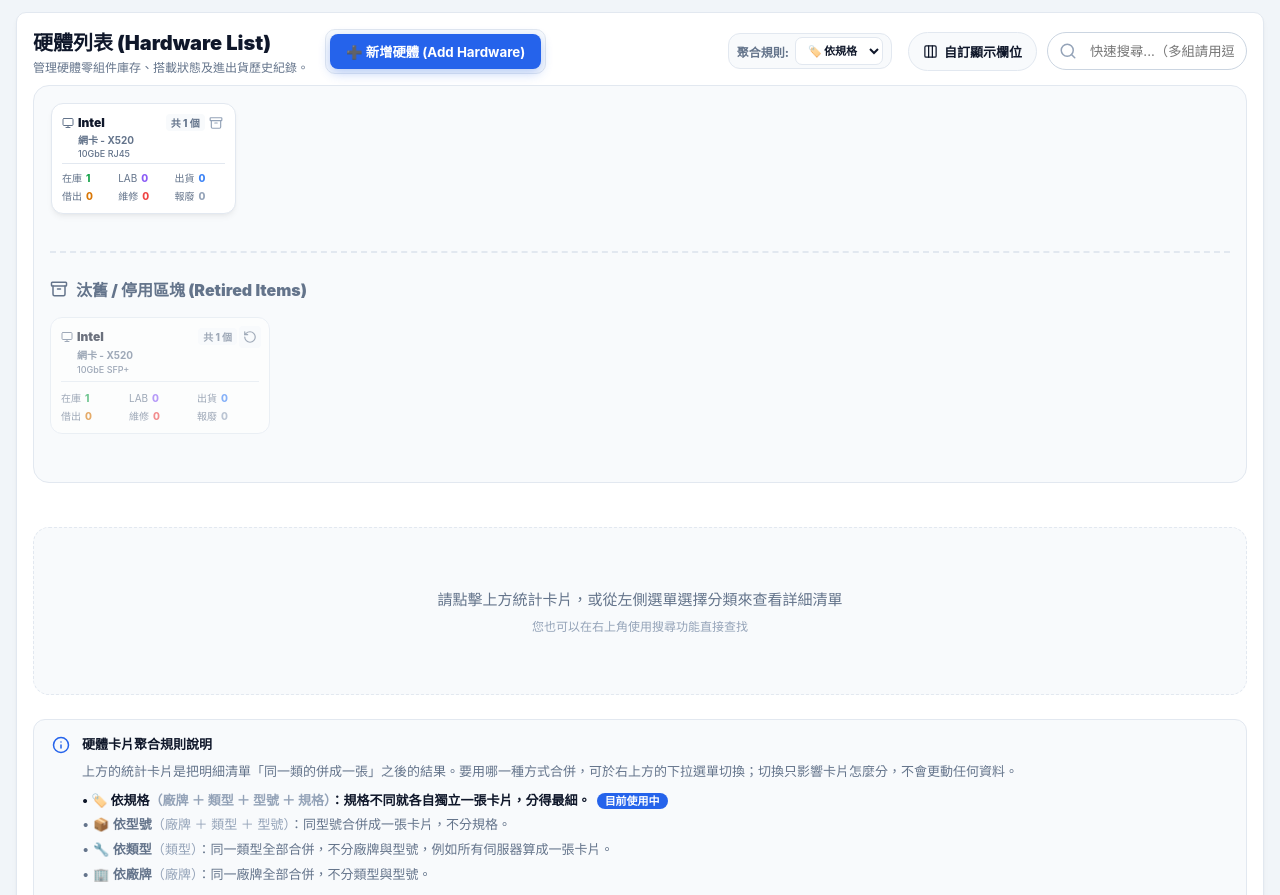
Scenario: 卡片聚合規則與汰舊區聯動測試 (Card Aggregation & Retire Rules) › HwList: 在依規格模式將卡片移至汰舊區，改為依廠牌時，汰舊區項目不應被加入使用中卡片計算
Expected: the heading "汰舊 / 停用區塊 (Retired Items)" is shown, [50,280,307,300]
切換為「依廠牌」模式（聚合規則已改為下拉選單）
Select "🏢 依廠牌" in the dropdown labelled "聚合規則:" at (839, 51), box [795,37,883,65]
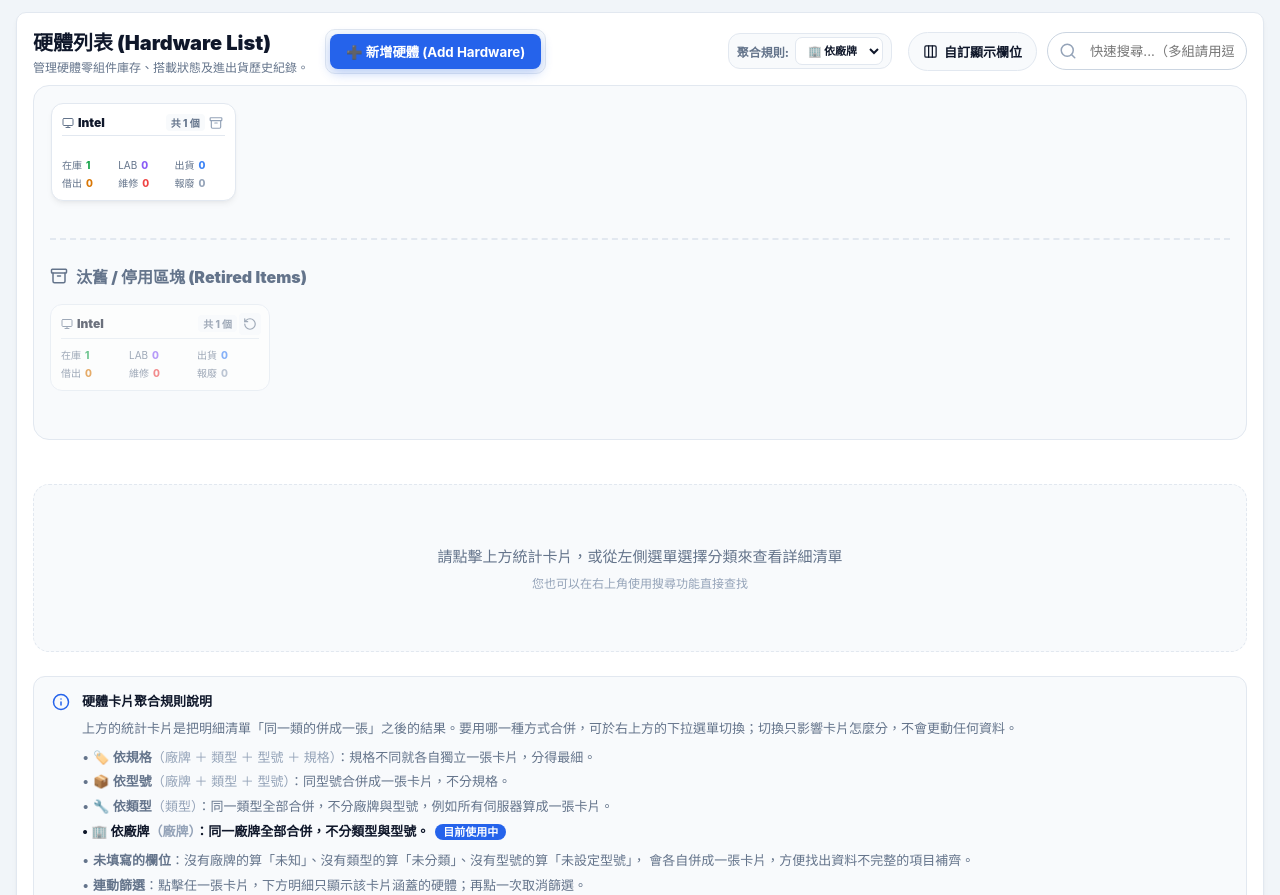
Click the 1st text "共 1 個" at (185, 122), box [166,114,205,131]
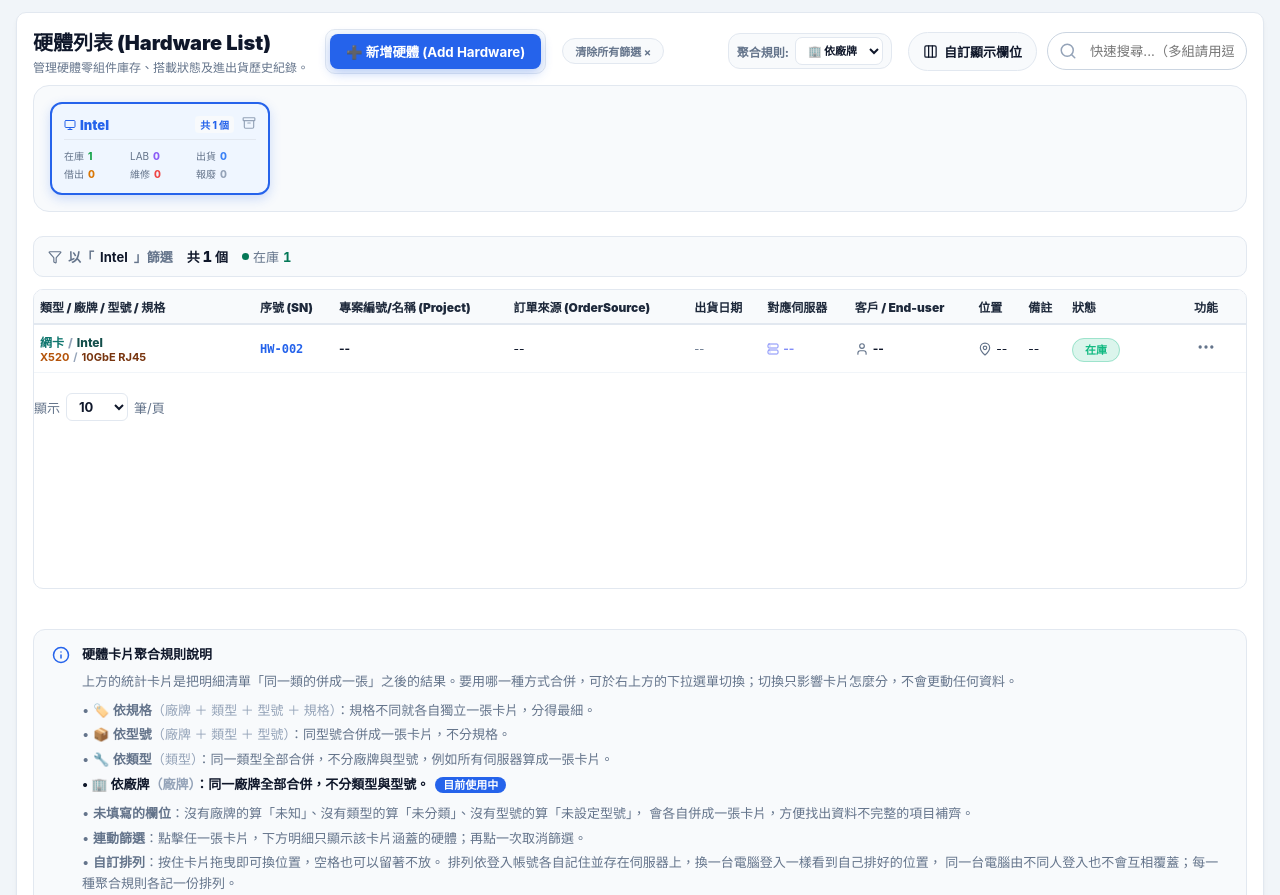
Result: the text "HW-002" is shown at [254,324,333,372]
